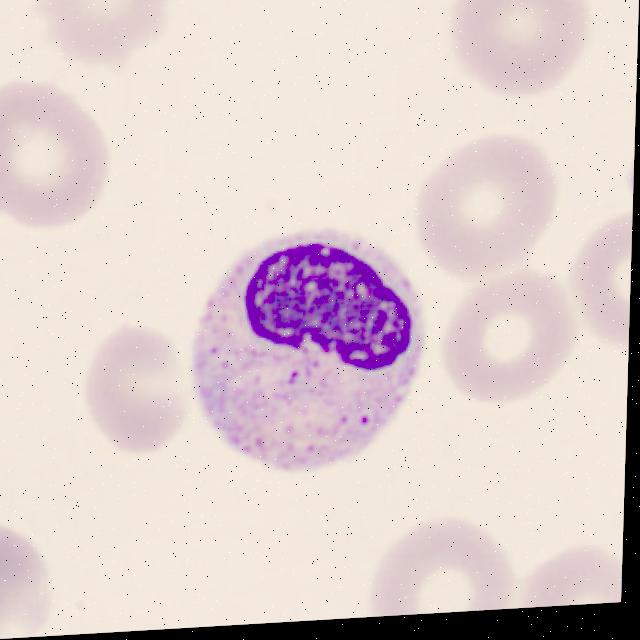neutrophil: (187, 221, 432, 486)
rbc: (414, 116, 569, 286), (434, 259, 580, 420), (0, 69, 131, 241), (417, 0, 598, 119), (359, 499, 524, 618), (85, 318, 196, 466), (562, 203, 633, 361), (27, 0, 187, 61), (519, 523, 623, 607), (0, 515, 67, 640)
